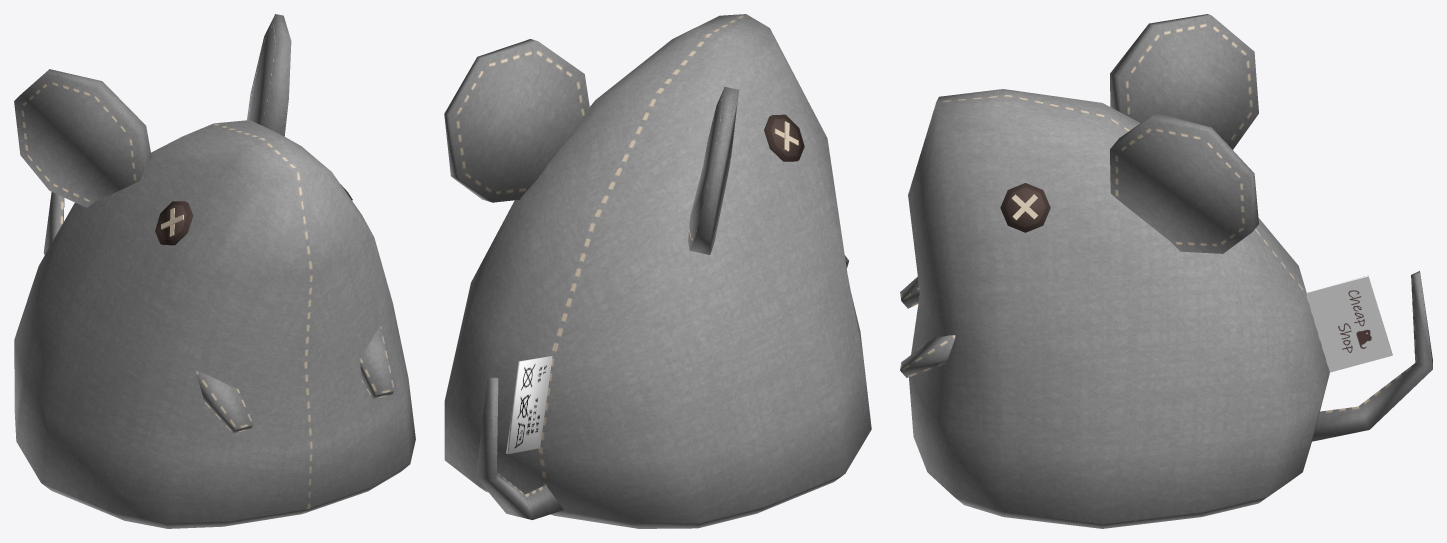
Rendered from rat_doll.fbx.
3 renders of one model, left to right at view 1: azimuth 30°, elevation 25°; view 2: azimuth 150°, elevation 25°; view 3: azimuth 270°, elevation 25°, orthographic. The views are drawn at different scales.
Visible parts, largest first — view 1: rat_doll; view 2: rat_doll; view 3: rat_doll.
Part boxes in pixels (x1=…): rat_doll: x1=14, y1=14, x2=415, y2=528; rat_doll: x1=444, y1=14, x2=871, y2=528; rat_doll: x1=900, y1=14, x2=1432, y2=528.
Size of the model in its own units: 0.2004 by 0.2035 by 0.26.
